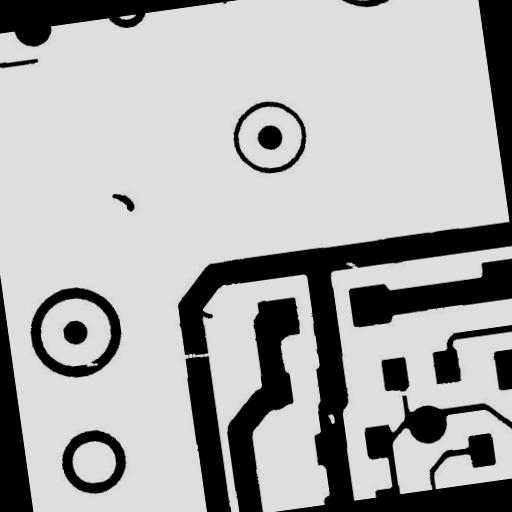copper: (104, 183, 143, 222)
mousebite: (72, 349, 106, 376), (337, 253, 366, 279)
open: (175, 342, 218, 368), (390, 382, 418, 405)
pin-hole: (318, 404, 344, 432)
spur: (185, 300, 221, 328)
